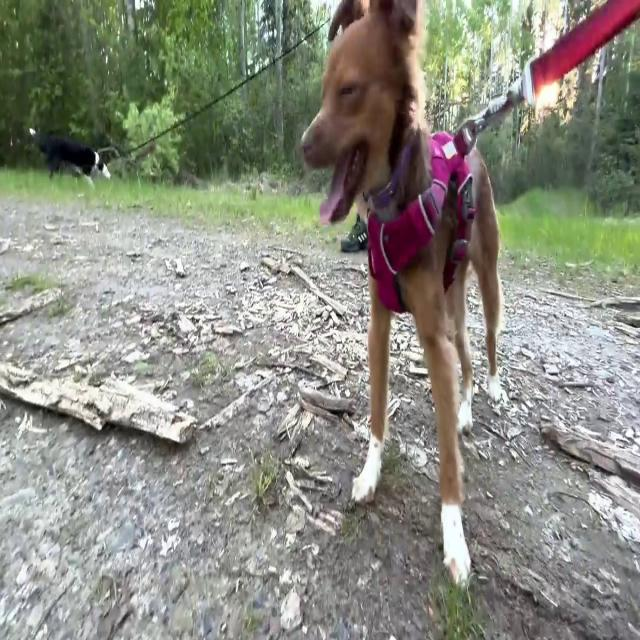Dog: (295, 0, 500, 592), (30, 127, 111, 190)
